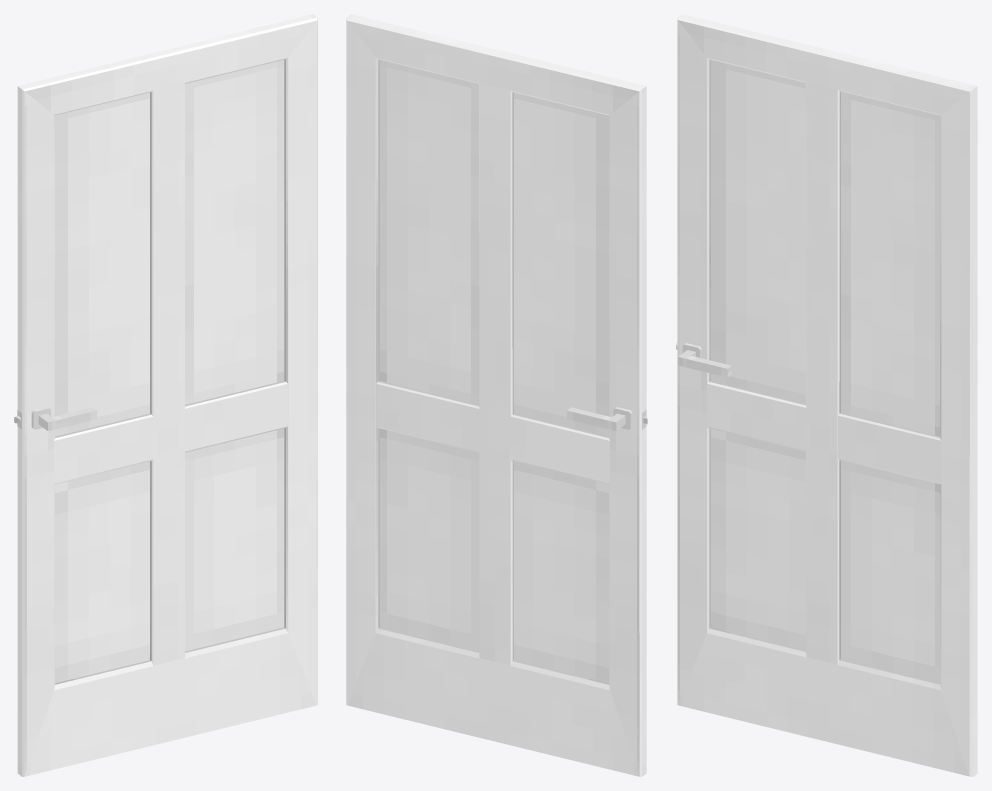
File: DoorFourPanel.glb
The picture shows the model from 3 angles, left to right: view 1: azimuth 30°, elevation 25°; view 2: azimuth 150°, elevation 25°; view 3: azimuth 330°, elevation 25°; orthographic projection.
Parts seen in each view (by area): view 1: DoorFourPanel; view 2: DoorFourPanel; view 3: DoorFourPanel.
Part boxes in pixels (bbox=[...]): DoorFourPanel: bbox=[14, 14, 317, 776]; DoorFourPanel: bbox=[346, 14, 647, 776]; DoorFourPanel: bbox=[676, 14, 977, 776].
Bounding box in the file's own units: 0.9286 × 2.03 × 0.1589.
Materials: 1 (1 with a texture image).
